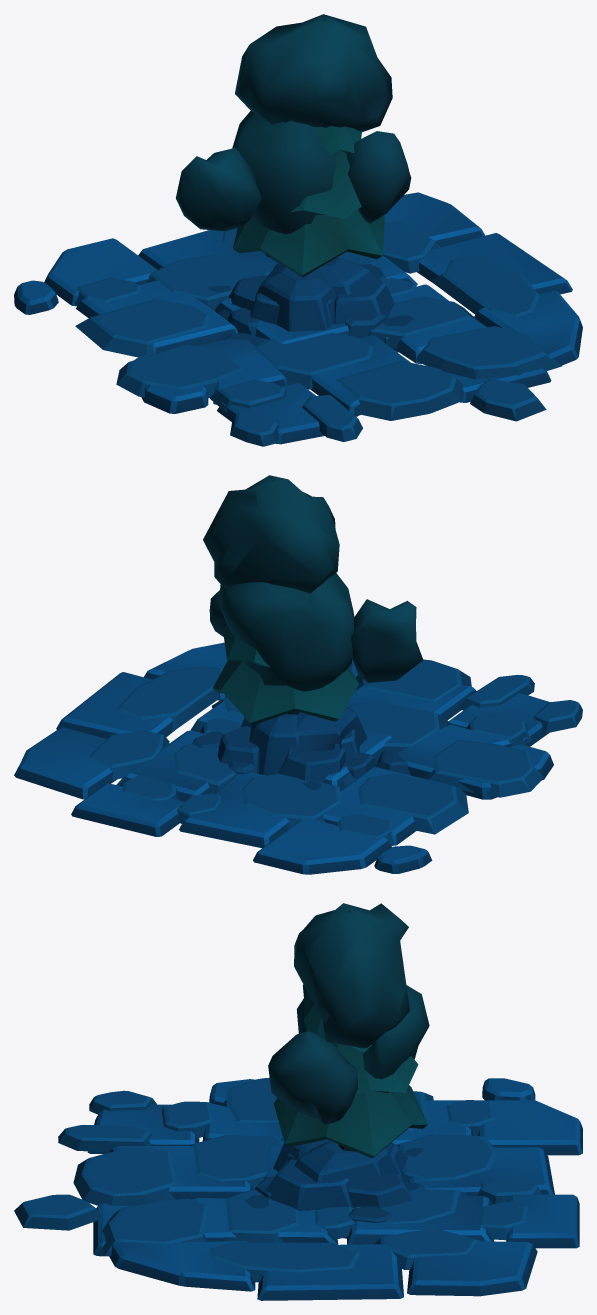
The model's file is Substrate_trees_rocks.fbx.
3 views of the same model, one above another, from view 1: azimuth 30°, elevation 25°; view 2: azimuth 150°, elevation 25°; view 3: azimuth 270°, elevation 25° (orthographic). The views are drawn at different scales.
Visible parts, largest first — view 1: Substrate_v1, Substrate_v2, Tree_2, Tree_1, Tree_3, Stones_2, Stones_1, Stones_3; view 2: Substrate_v2, Substrate_v1, Tree_2, Tree_3, Tree_1, Stones_1, Stones_2; view 3: Substrate_v2, Substrate_v1, Tree_2, Tree_1, Stones_1, Stones_2, Tree_3.
Part boxes in pixels (<box>): Substrate_v1: <box>75,221,561,446</box>; Substrate_v2: <box>14,192,582,444</box>; Tree_2: <box>176,14,411,231</box>; Tree_1: <box>233,17,384,277</box>; Tree_3: <box>232,111,340,233</box>; Stones_2: <box>228,264,413,335</box>; Stones_1: <box>208,257,398,352</box>; Stones_3: <box>326,299,387,338</box>; Substrate_v2: <box>14,642,553,874</box>; Substrate_v1: <box>89,659,582,845</box>; Tree_2: <box>203,475,423,682</box>; Tree_3: <box>219,573,354,714</box>; Tree_1: <box>213,478,358,725</box>; Stones_1: <box>192,713,410,790</box>; Stones_2: <box>227,706,377,782</box>; Substrate_v2: <box>87,1078,582,1300</box>; Substrate_v1: <box>14,1077,541,1282</box>; Tree_2: <box>268,903,409,1124</box>; Tree_1: <box>273,909,427,1158</box>; Stones_1: <box>280,1138,423,1238</box>; Stones_2: <box>245,1139,424,1210</box>; Tree_3: <box>296,985,429,1092</box>.
Bounding box in the file's own units: 5.09 × 3.33 × 5.65.
